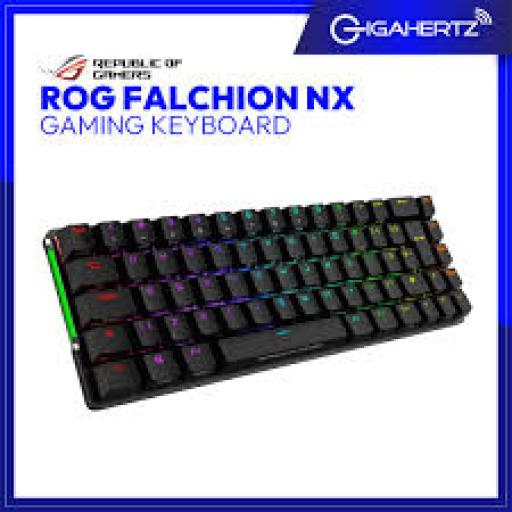keyboard: (34, 190, 472, 420)
